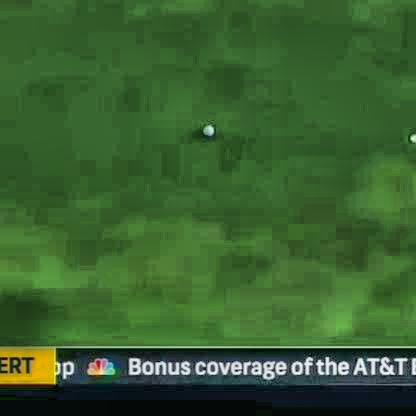golfball: (200, 120, 213, 133)
